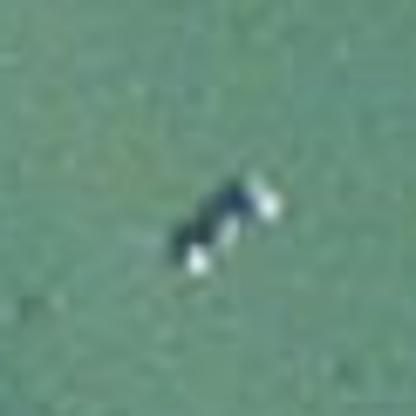ship: (174, 158, 292, 286)
